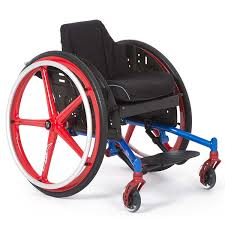wheelchair: (8, 47, 224, 208)
